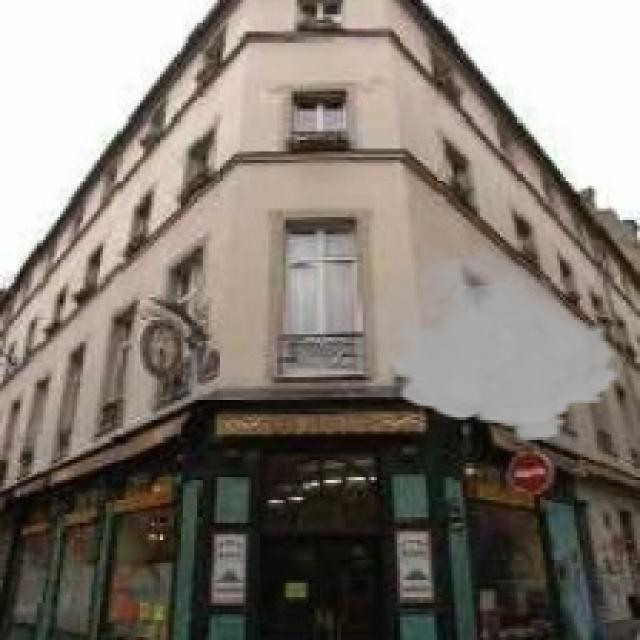smoke: (368, 240, 623, 443)
